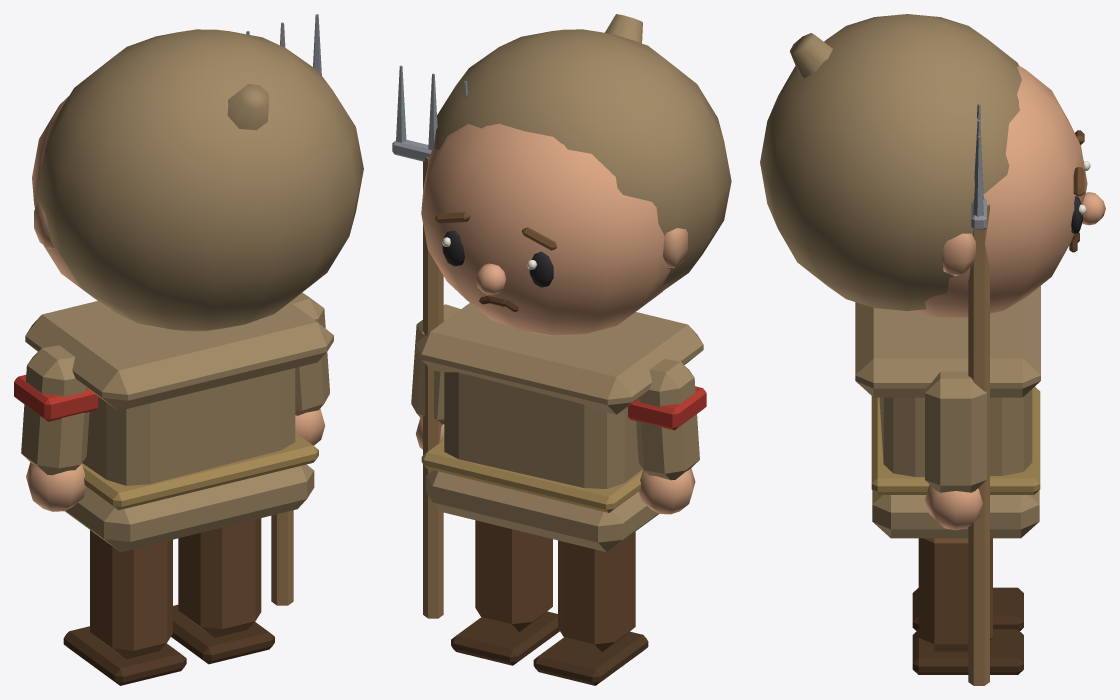
The model's file is levy.fbx.
3 views of the same model, side by side, from view 1: azimuth 30°, elevation 25°; view 2: azimuth 150°, elevation 25°; view 3: azimuth 270°, elevation 25° (orthographic). The views are drawn at different scales.
Parts seen in each view (by area): view 1: Head, Body, LegL, LegR, ArmL, ArmR, Weapon; view 2: Head, Body, LegL, LegR, ArmL, Weapon, ArmR; view 3: Head, Body, LegR, ArmR, Weapon, LegL.
Boxes of the visible parts, left/top/right/bottom form: Head: left=32, top=29, right=363, bottom=331; Body: left=25, top=301, right=333, bottom=552; LegL: left=63, top=530, right=186, bottom=685; LegR: left=171, top=518, right=274, bottom=664; ArmL: left=14, top=345, right=98, bottom=511; ArmR: left=290, top=292, right=329, bottom=445; Weapon: left=246, top=14, right=321, bottom=605; Head: left=421, top=14, right=731, bottom=336; Body: left=415, top=303, right=703, bottom=552; LegL: left=533, top=531, right=648, bottom=685; LegR: left=451, top=520, right=559, bottom=665; ArmL: left=628, top=359, right=706, bottom=514; Weapon: left=392, top=65, right=467, bottom=618; ArmR: left=411, top=304, right=460, bottom=449; Head: left=760, top=14, right=1105, bottom=317; Body: left=855, top=286, right=1040, bottom=538; LegR: left=912, top=538, right=1023, bottom=674; ArmR: left=925, top=371, right=986, bottom=530; Weapon: left=968, top=103, right=989, bottom=685; LegL: left=912, top=587, right=1023, bottom=631.
Bounding box in the file's own units: 0.4441 × 0.4467 × 0.8703.
